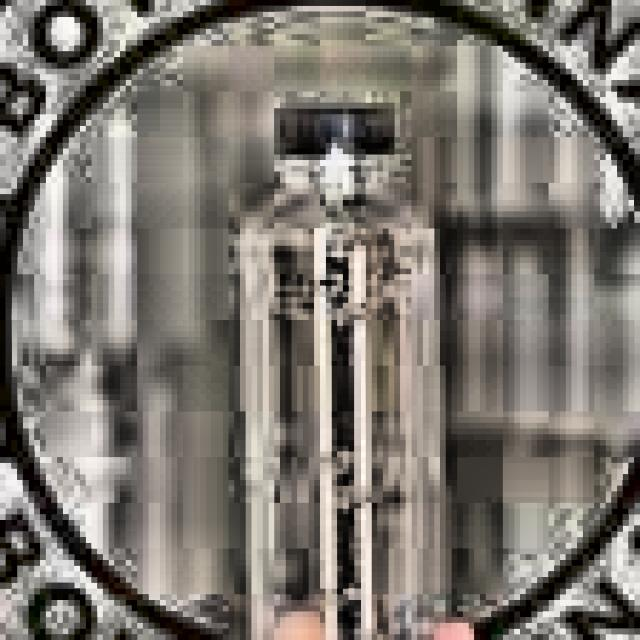plastic: (183, 91, 531, 640)
